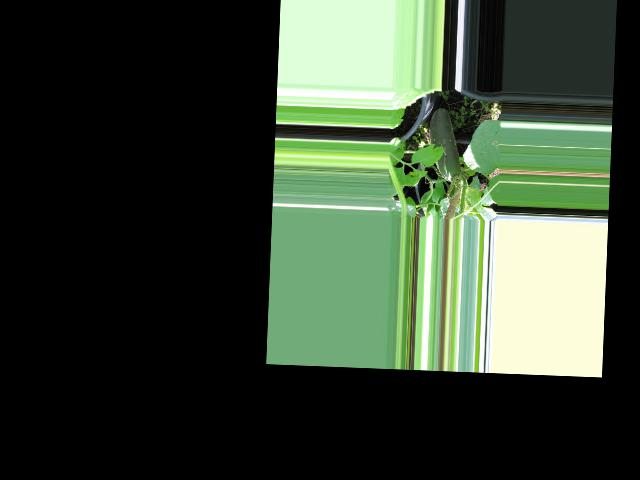cucumber: (427, 108, 463, 181)
